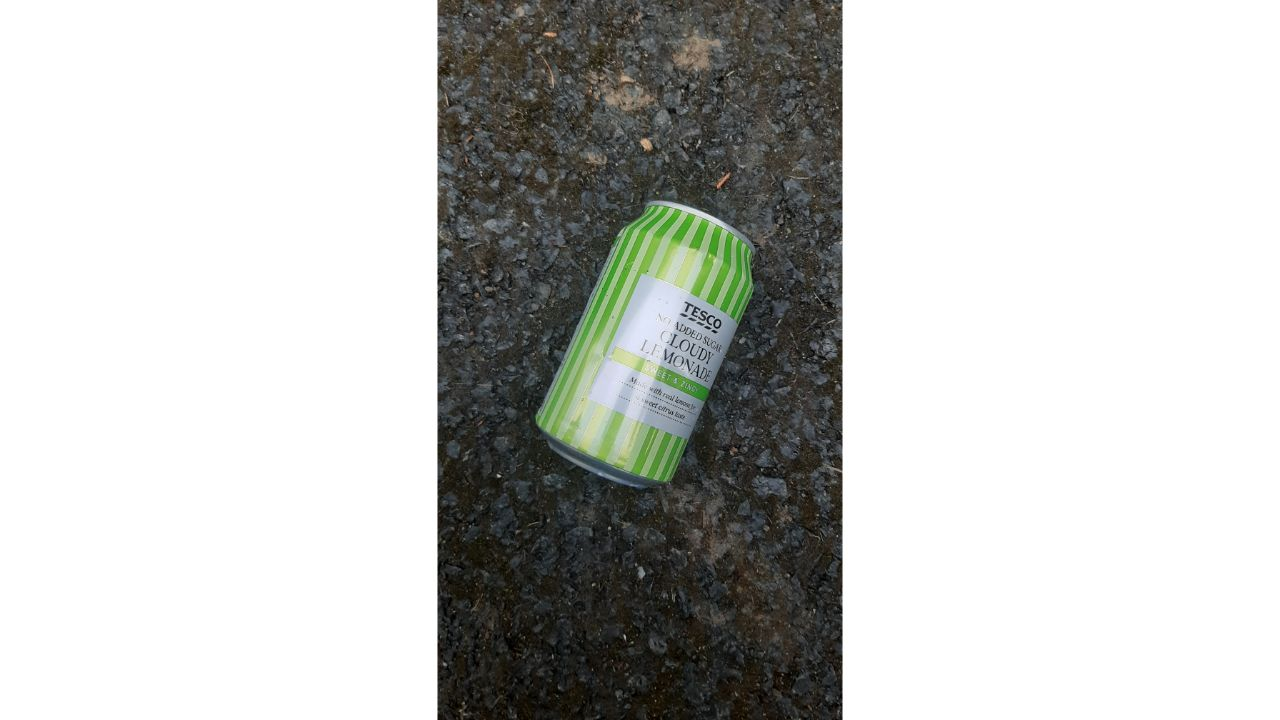Can: (517, 185, 768, 504)
